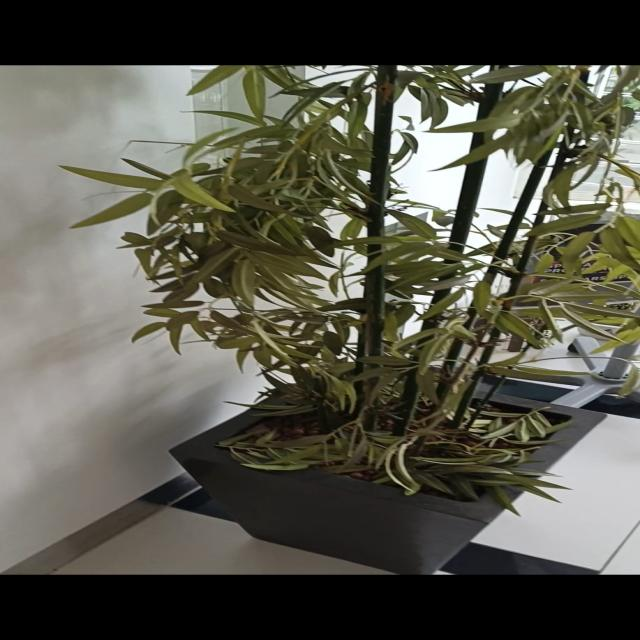Pot: (171, 362, 610, 576)
